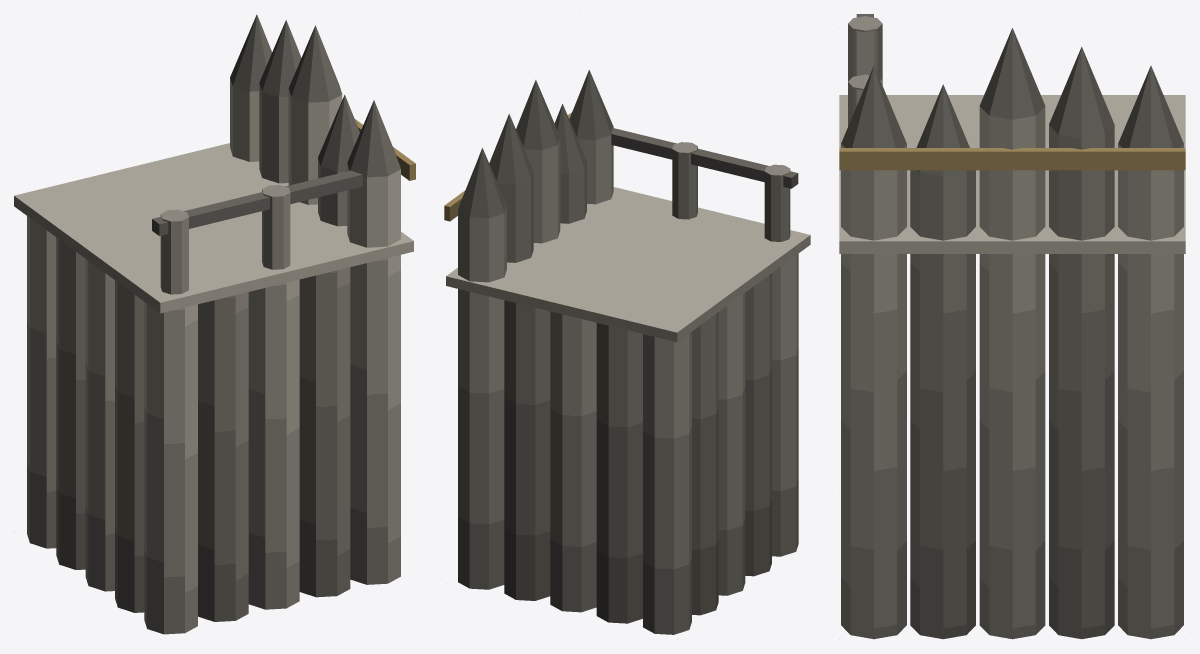
File: perimeter_wall_stone_f9.glb
3 renders of one model, left to right at view 1: azimuth 30°, elevation 25°; view 2: azimuth 150°, elevation 25°; view 3: azimuth 270°, elevation 25°, orthographic. The views are drawn at different scales.
Size of the model in its own units: 2.01 by 3.9 by 2.
Materials: 1 (1 with a texture image).
